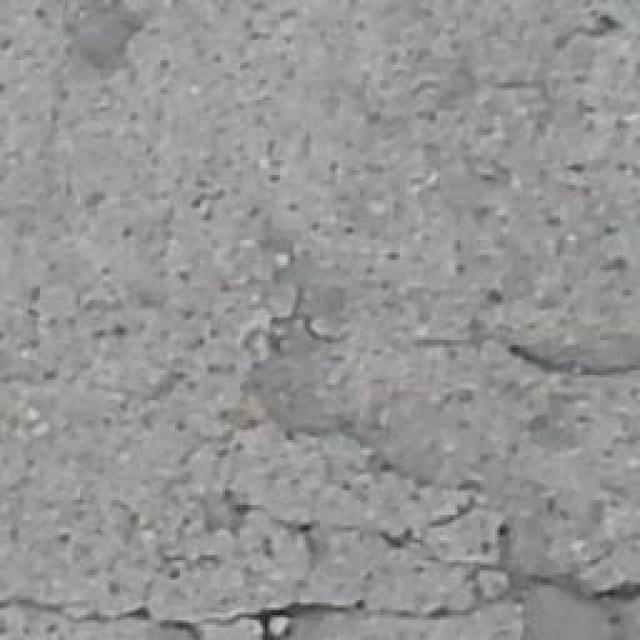concrete-crack: (0, 491, 640, 640), (494, 329, 640, 384)
